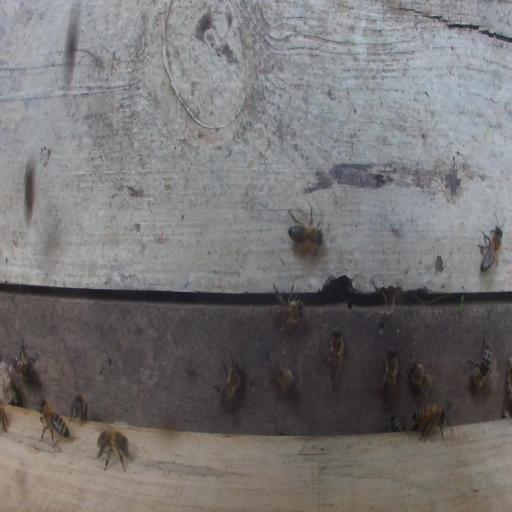nonpollenbee: (475, 210, 507, 284), (270, 276, 305, 337), (287, 204, 325, 260), (210, 354, 247, 411), (96, 419, 131, 471), (411, 403, 454, 444), (465, 330, 493, 390), (39, 398, 70, 450), (266, 341, 297, 393), (323, 326, 346, 385), (381, 346, 402, 407), (404, 357, 434, 399), (13, 335, 39, 383), (69, 393, 89, 428), (386, 412, 408, 434)
